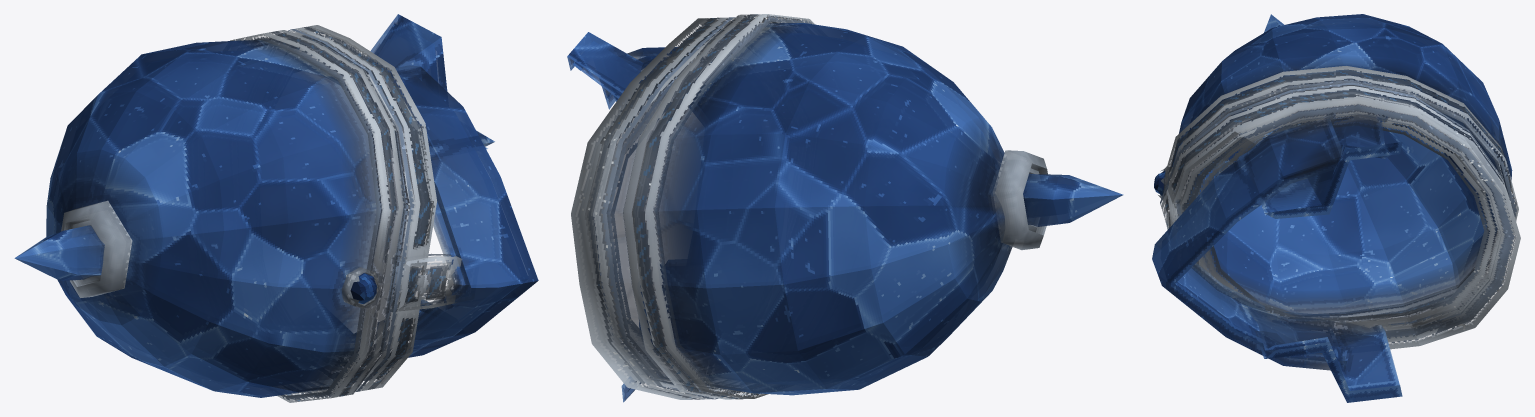
The model's file is casque_saphir.glb.
3 renders of one model, left to right at view 1: azimuth 30°, elevation 25°; view 2: azimuth 150°, elevation 25°; view 3: azimuth 270°, elevation 25°, orthographic. The views are drawn at different scales.
Parts seen in each view (by area): view 1: casque_saphir.001; view 2: casque_saphir.001; view 3: casque_saphir.001.
Part boxes in pixels (<box>): casque_saphir.001: <box>14,14,538,402</box>; casque_saphir.001: <box>567,14,1123,402</box>; casque_saphir.001: <box>1152,14,1520,402</box>.
Size of the model in its own units: 0.3296 by 0.2288 by 0.255.
4 materials, 4 textured.
